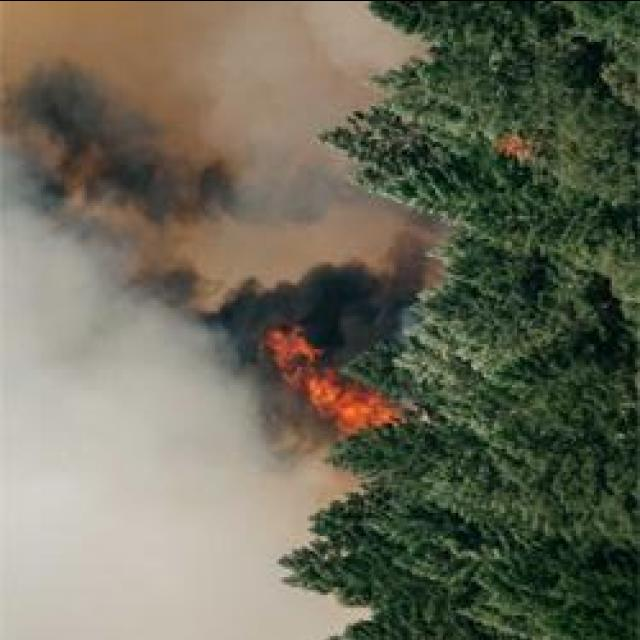fire: (312, 387, 402, 438)
smoke: (1, 106, 270, 235), (211, 257, 392, 371)
